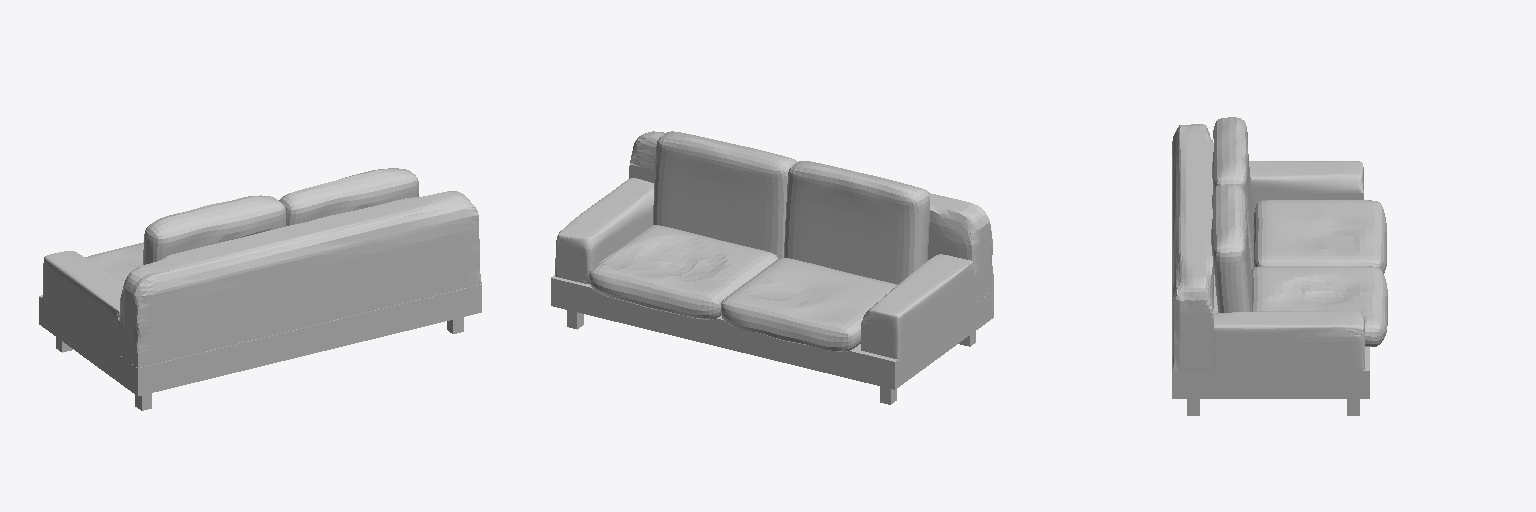
The model's file is sofa.obj.
The picture shows the model from 3 angles: view 1: azimuth 30°, elevation 25°; view 2: azimuth 150°, elevation 25°; view 3: azimuth 270°, elevation 25°; orthographic projection.
Parts seen in each view (by area): view 1: PIllow.001_Cube.007; view 2: PIllow.001_Cube.007; view 3: PIllow.001_Cube.007.
Boxes of the visible parts, <box> form: PIllow.001_Cube.007: <box>39,168,481,410</box>; PIllow.001_Cube.007: <box>551,131,993,404</box>; PIllow.001_Cube.007: <box>1172,117,1387,415</box>.
Bounding box in the file's own units: 6.4 × 2.89 × 3.47.